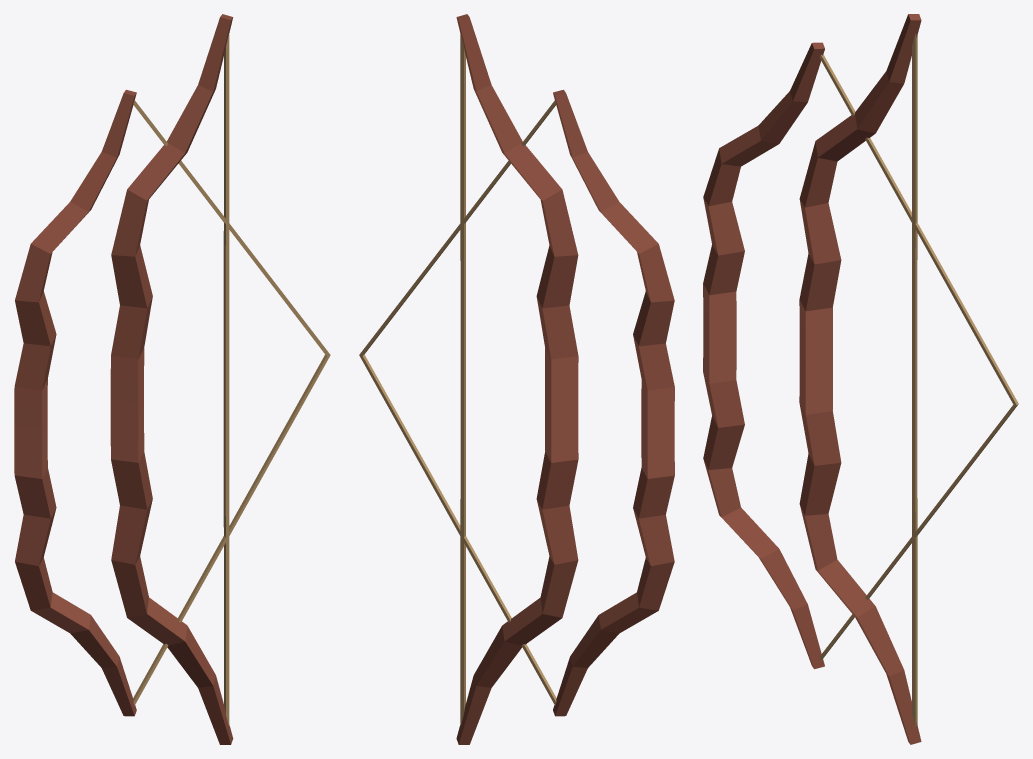
Rendered from bow_2.glb.
The picture shows the model from 3 angles, left to right: view 1: azimuth 30°, elevation 25°; view 2: azimuth 150°, elevation 25°; view 3: azimuth 330°, elevation 25°; orthographic projection.
Parts seen in each view (by area): view 1: BowRest, BowDrawn; view 2: BowRest, BowDrawn; view 3: BowRest, BowDrawn.
Boxes of the visible parts, left/top/right/bottom form: BowRest: left=110, top=14, right=233, bottom=744; BowDrawn: left=14, top=89, right=330, bottom=716; BowRest: left=456, top=14, right=578, bottom=744; BowDrawn: left=359, top=89, right=674, bottom=716; BowRest: left=799, top=14, right=921, bottom=744; BowDrawn: left=703, top=42, right=1018, bottom=669.
Size of the model in its own units: 0.4529 by 1 by 0.0523.
Materials: 1 (1 with a texture image).
